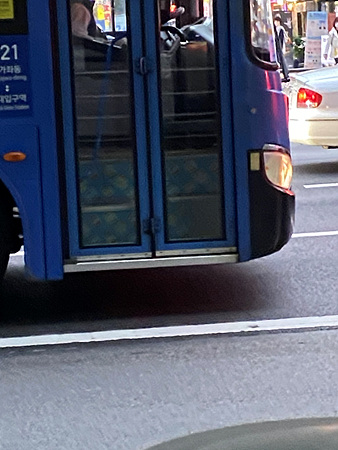entrance: (62, 2, 242, 265)
